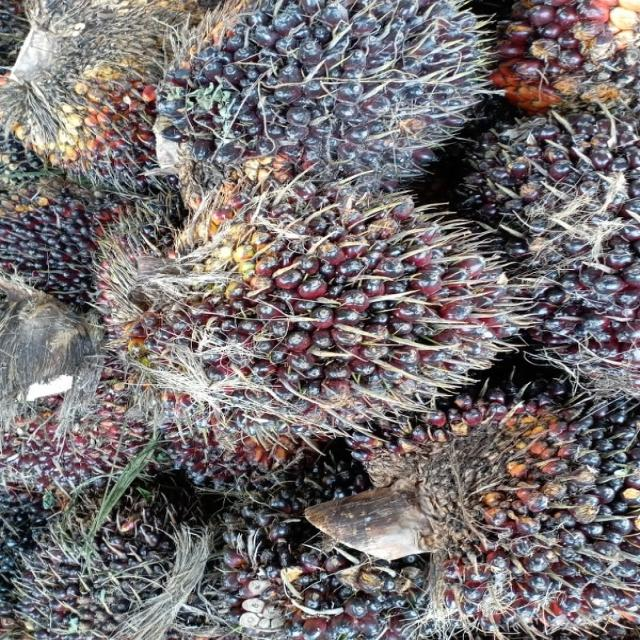fraksi 00: (165, 0, 495, 200), (417, 384, 639, 640), (474, 113, 640, 389), (23, 501, 241, 640), (0, 190, 122, 308)
fraksi 1: (119, 180, 533, 444)
